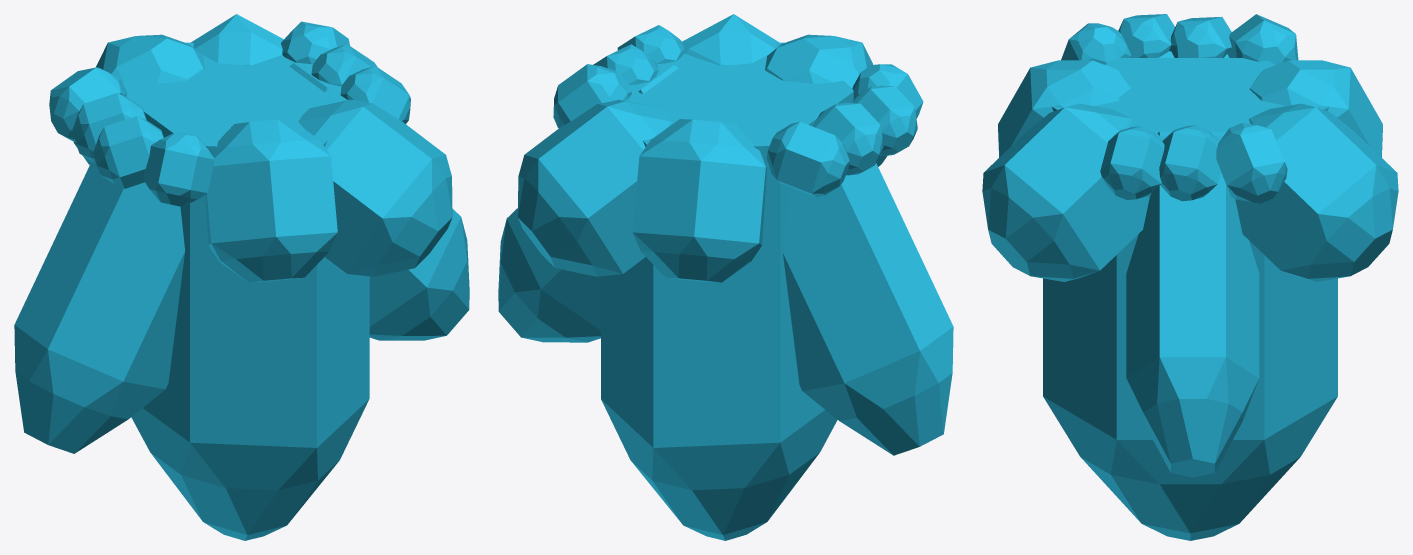
Rendered from quartz.fbx.
3 views of the same model, side by side, from view 1: azimuth 30°, elevation 25°; view 2: azimuth 150°, elevation 25°; view 3: azimuth 270°, elevation 25° (orthographic).
Parts seen in each view (by area): view 1: Circle.005; view 2: Circle.005; view 3: Circle.005.
Boxes of the visible parts, box(x1,y1,x2,y2) form: Circle.005: box(14, 14, 469, 540); Circle.005: box(498, 14, 953, 540); Circle.005: box(982, 14, 1398, 540).
Size of the model in its own units: 161 by 159 by 131.
